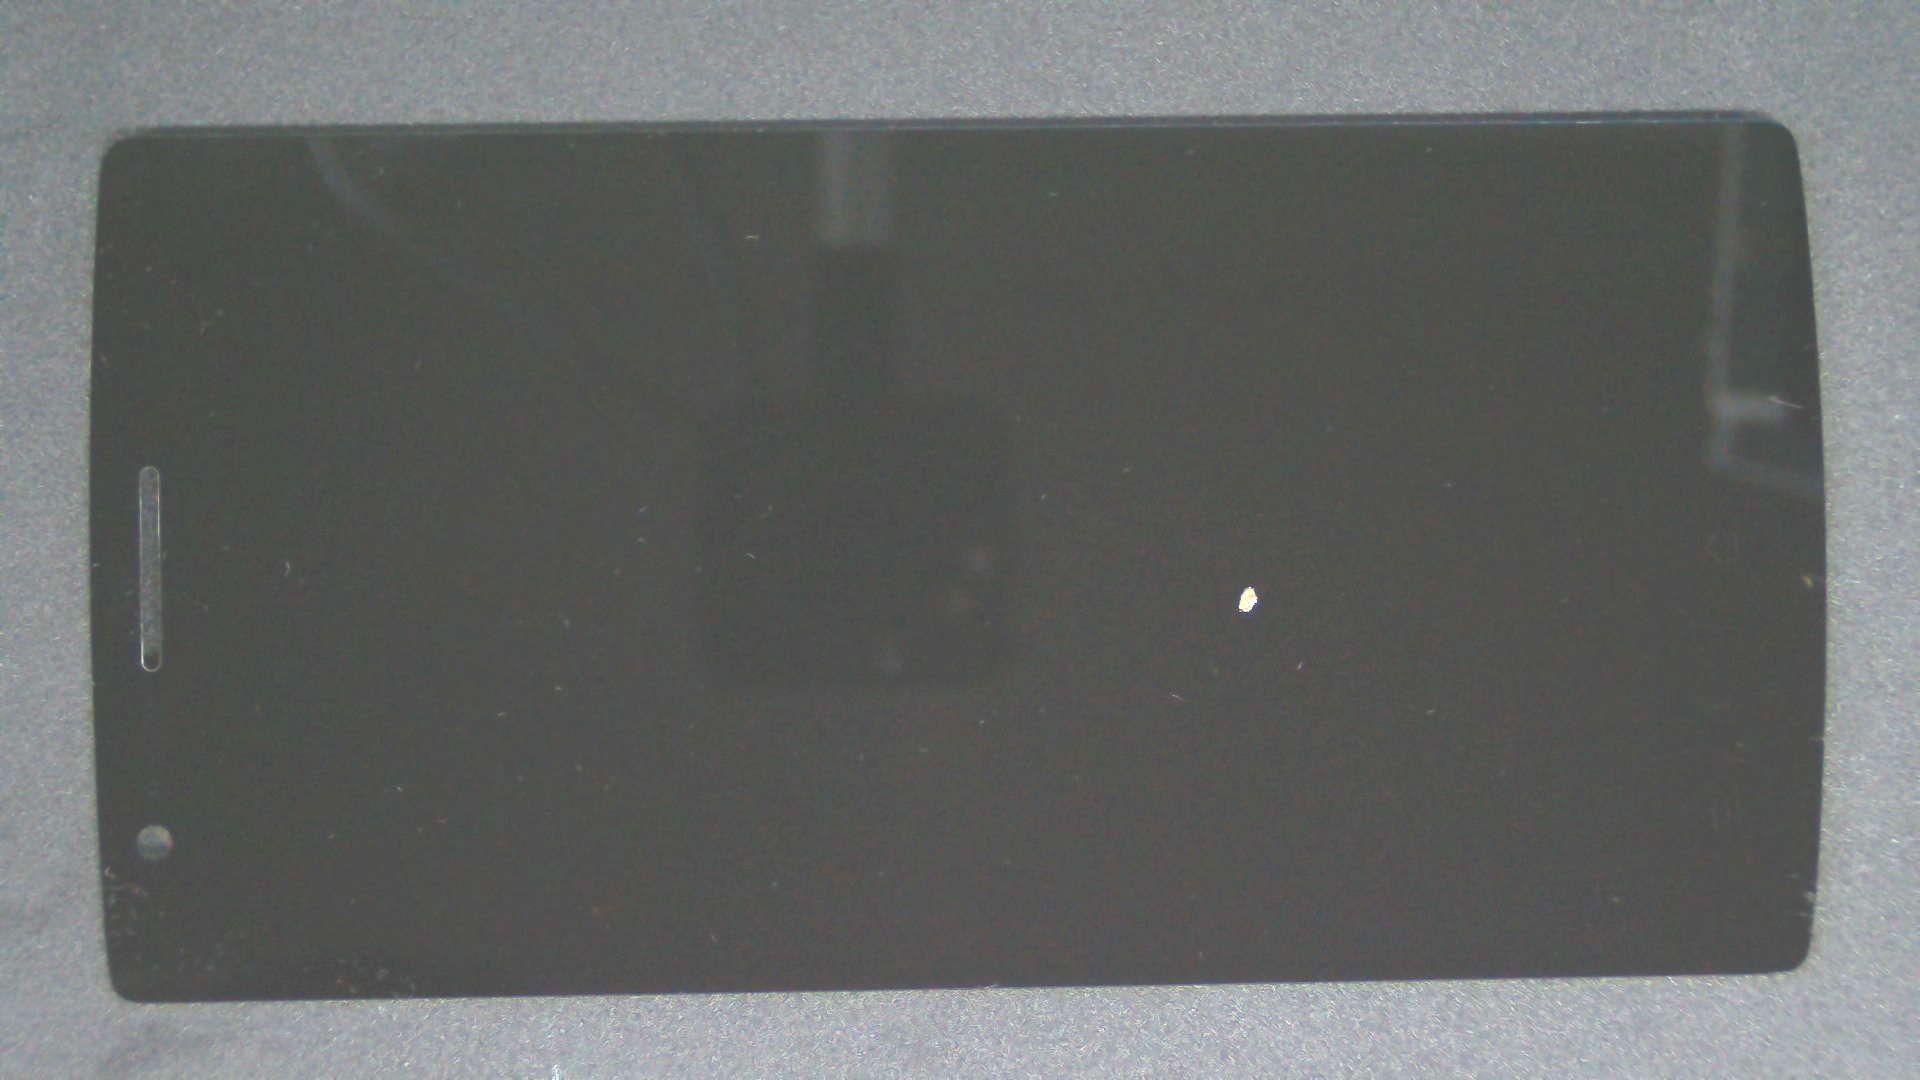oil: (625, 291, 1873, 878)
